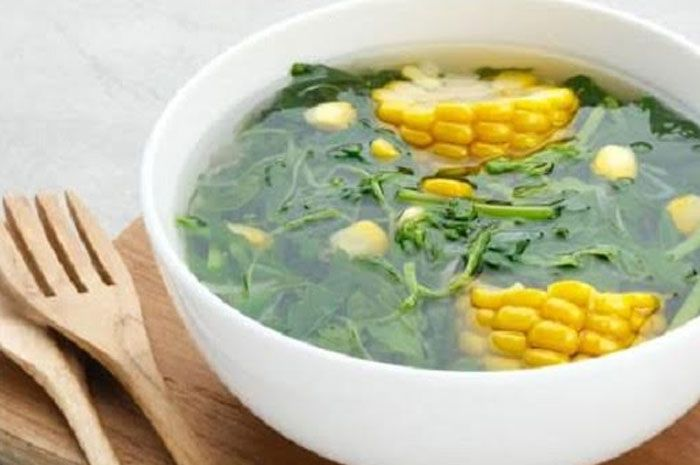Sayur Bayam: (205, 30, 684, 419)
